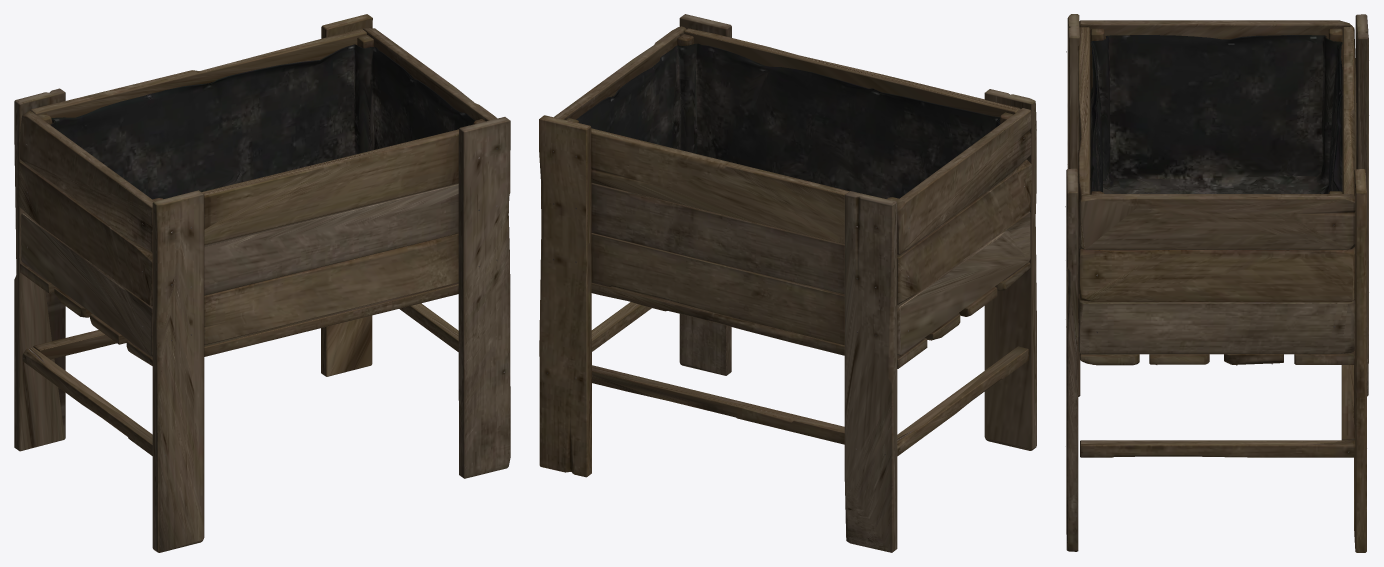
File: planter-box-03.glb
3 renders of one model, left to right at view 1: azimuth 30°, elevation 25°; view 2: azimuth 150°, elevation 25°; view 3: azimuth 270°, elevation 25°, orthographic. The views are drawn at different scales.
Visible parts, largest first — view 1: planter_box_03; view 2: planter_box_03; view 3: planter_box_03.
Boxes of the visible parts, x1=… form: planter_box_03: x1=14, y1=14, x2=510, y2=552; planter_box_03: x1=539, y1=14, x2=1036, y2=552; planter_box_03: x1=1065, y1=14, x2=1368, y2=552.
Bounding box in the file's own units: 0.9132 × 0.8552 × 0.6535.
Materials: 1 (1 with a texture image).
